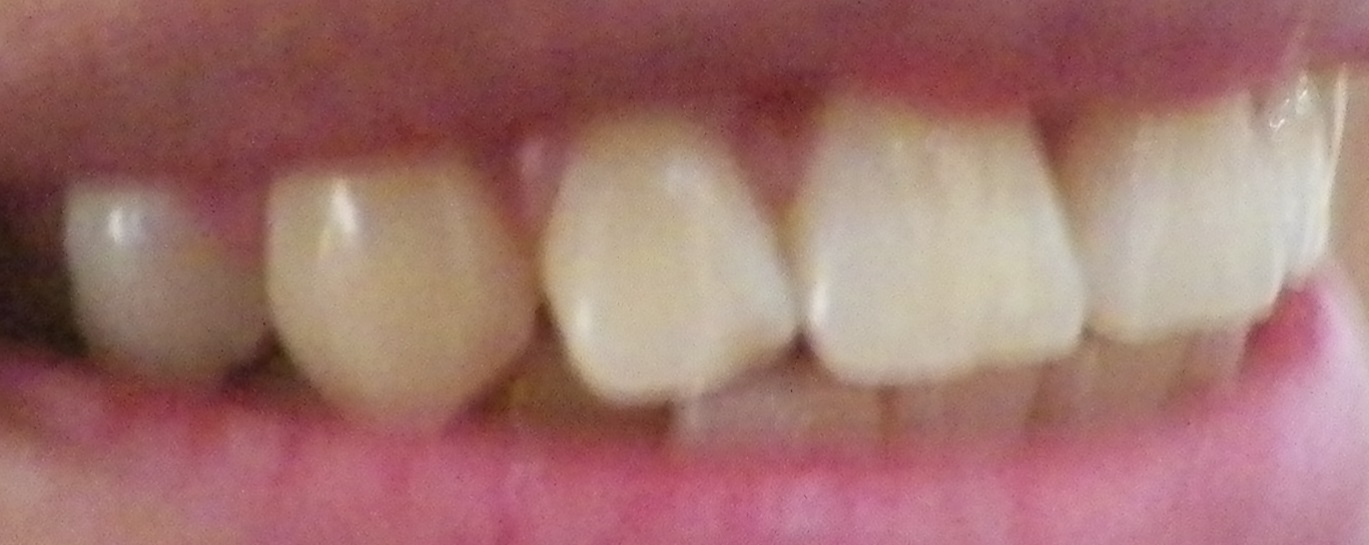boca: (26, 79, 1345, 454)
